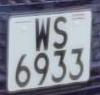3: (51, 48, 70, 87), (69, 45, 87, 85)
6: (13, 50, 34, 93)
9: (32, 52, 52, 87)
S: (51, 13, 71, 51)
W: (33, 14, 52, 56)
